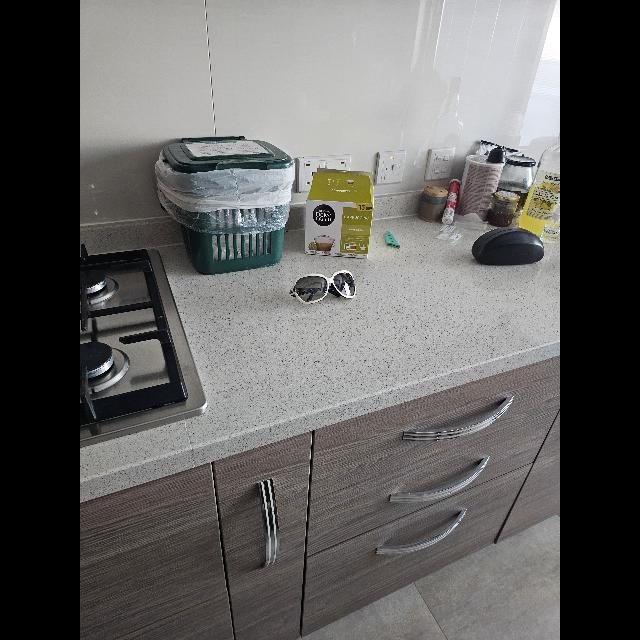Sunglasses: (289, 270, 355, 304)
